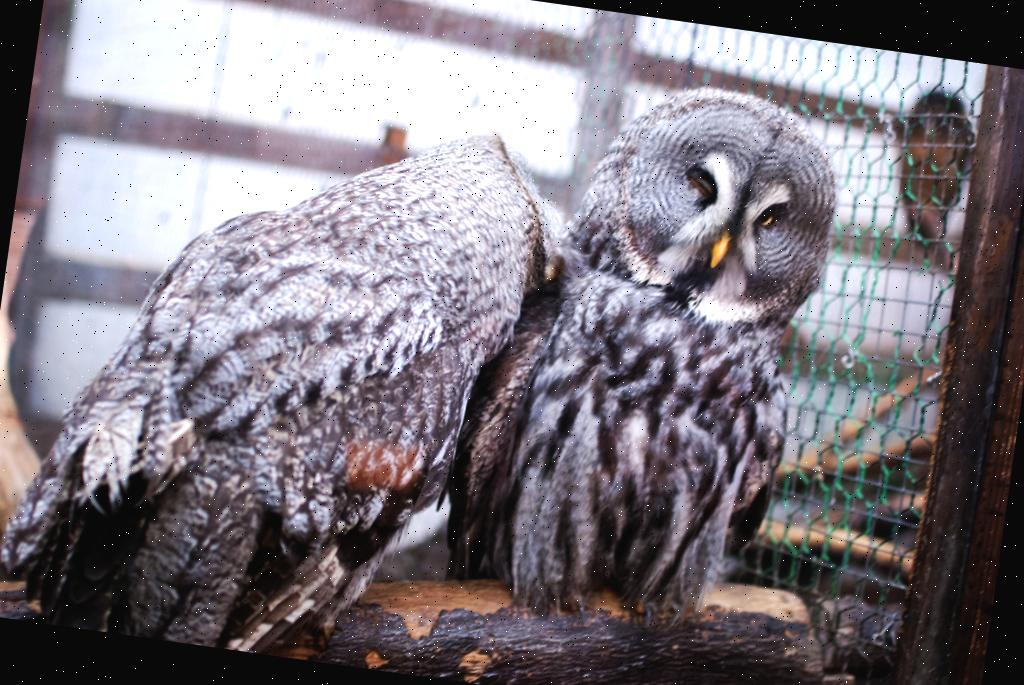Owl: (0, 67, 561, 684), (444, 56, 852, 663)
